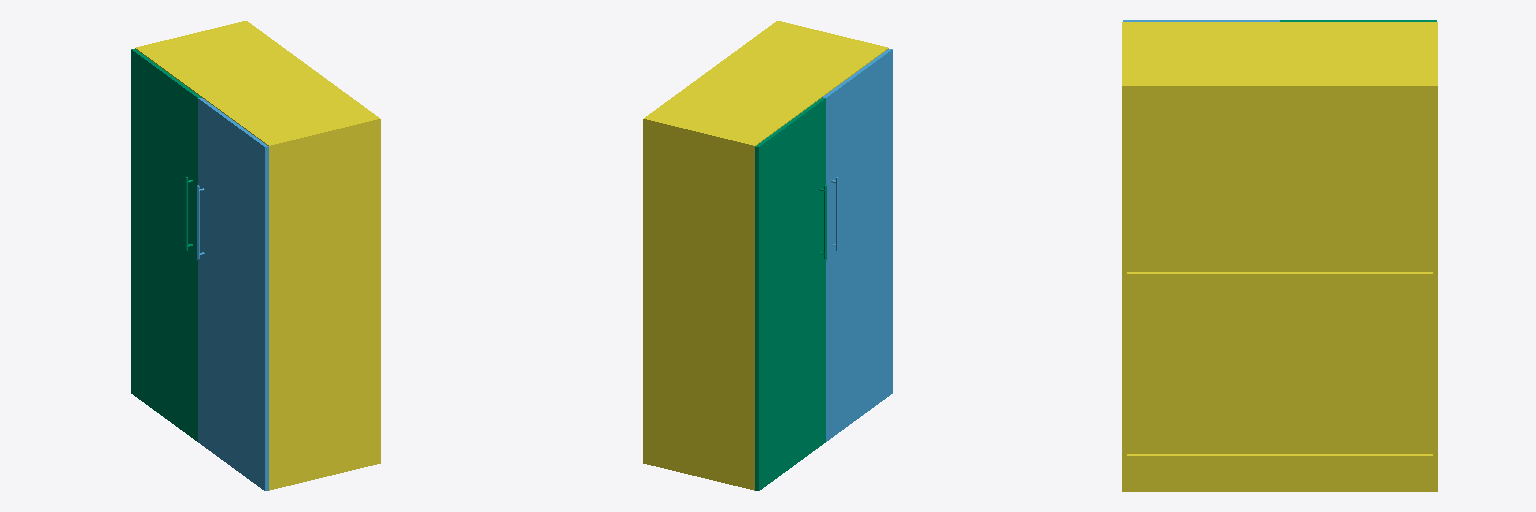
robot.urdf — partnet_5bf29b17ff338ef4c3aee8e9d3a6ffa:
<?xml version="1.0" ?>
<robot name="partnet_5bf29b17ff338ef4c3aee8e9d3a6ffa">
	<link name="base"/>
	<link name="link_0">
		<visual name="cabinet_door_surface-7">
			<origin xyz="-0.5568378988128383 0 -0.26716946744853437"/>
			<geometry>
				<mesh filename="textured_objs/original-29.obj"/>
			</geometry>
		</visual>
		<visual name="handle-8">
			<origin xyz="-0.5568378988128383 0 -0.26716946744853437"/>
			<geometry>
				<mesh filename="textured_objs/original-31.obj"/>
			</geometry>
		</visual>
		<visual name="handle-8">
			<origin xyz="-0.5568378988128383 0 -0.26716946744853437"/>
			<geometry>
				<mesh filename="textured_objs/original-32.obj"/>
			</geometry>
		</visual>
		<visual name="handle-8">
			<origin xyz="-0.5568378988128383 0 -0.26716946744853437"/>
			<geometry>
				<mesh filename="textured_objs/original-33.obj"/>
			</geometry>
		</visual>
		<collision>
			<origin xyz="-0.5568378988128383 0 -0.26716946744853437"/>
			<geometry>
				<mesh filename="textured_objs/original-29.obj"/>
			</geometry>
		</collision>
		<collision>
			<origin xyz="-0.5568378988128383 0 -0.26716946744853437"/>
			<geometry>
				<mesh filename="textured_objs/original-31.obj"/>
			</geometry>
		</collision>
		<collision>
			<origin xyz="-0.5568378988128383 0 -0.26716946744853437"/>
			<geometry>
				<mesh filename="textured_objs/original-32.obj"/>
			</geometry>
		</collision>
		<collision>
			<origin xyz="-0.5568378988128383 0 -0.26716946744853437"/>
			<geometry>
				<mesh filename="textured_objs/original-33.obj"/>
			</geometry>
		</collision>
	</link>
	<joint name="joint_0" type="revolute">
		<origin xyz="0.5568378988128383 0 0.26716946744853437"/>
		<axis xyz="0 1 0"/>
		<child link="link_0"/>
		<parent link="link_2"/>
		<limit lower="0.0" upper="1.5707963267948966"/>
	</joint>
	<link name="link_1">
		<visual name="cabinet_door_surface-5">
			<origin xyz="0.5505441576616547 0 -0.2585040087401204"/>
			<geometry>
				<mesh filename="textured_objs/original-21.obj"/>
			</geometry>
		</visual>
		<visual name="handle-6">
			<origin xyz="0.5505441576616547 0 -0.2585040087401204"/>
			<geometry>
				<mesh filename="textured_objs/original-23.obj"/>
			</geometry>
		</visual>
		<visual name="handle-6">
			<origin xyz="0.5505441576616547 0 -0.2585040087401204"/>
			<geometry>
				<mesh filename="textured_objs/original-24.obj"/>
			</geometry>
		</visual>
		<visual name="handle-6">
			<origin xyz="0.5505441576616547 0 -0.2585040087401204"/>
			<geometry>
				<mesh filename="textured_objs/original-25.obj"/>
			</geometry>
		</visual>
		<collision>
			<origin xyz="0.5505441576616547 0 -0.2585040087401204"/>
			<geometry>
				<mesh filename="textured_objs/original-21.obj"/>
			</geometry>
		</collision>
		<collision>
			<origin xyz="0.5505441576616547 0 -0.2585040087401204"/>
			<geometry>
				<mesh filename="textured_objs/original-23.obj"/>
			</geometry>
		</collision>
		<collision>
			<origin xyz="0.5505441576616547 0 -0.2585040087401204"/>
			<geometry>
				<mesh filename="textured_objs/original-24.obj"/>
			</geometry>
		</collision>
		<collision>
			<origin xyz="0.5505441576616547 0 -0.2585040087401204"/>
			<geometry>
				<mesh filename="textured_objs/original-25.obj"/>
			</geometry>
		</collision>
	</link>
	<joint name="joint_1" type="revolute">
		<origin xyz="-0.5505441576616547 0 0.2585040087401204"/>
		<axis xyz="0 -1 0"/>
		<child link="link_1"/>
		<parent link="link_2"/>
		<limit lower="-0.0" upper="1.5707963267948966"/>
	</joint>
	<link name="link_2">
		<visual name="shelf-10">
			<origin xyz="0 0 0"/>
			<geometry>
				<mesh filename="textured_objs/original-19.obj"/>
			</geometry>
		</visual>
		<visual name="shelf-11">
			<origin xyz="0 0 0"/>
			<geometry>
				<mesh filename="textured_objs/original-26.obj"/>
			</geometry>
		</visual>
		<visual name="shelf-12">
			<origin xyz="0 0 0"/>
			<geometry>
				<mesh filename="textured_objs/original-27.obj"/>
			</geometry>
		</visual>
		<visual name="vertical_side_panel-13">
			<origin xyz="0 0 0"/>
			<geometry>
				<mesh filename="textured_objs/original-7.obj"/>
			</geometry>
		</visual>
		<visual name="vertical_side_panel-13">
			<origin xyz="0 0 0"/>
			<geometry>
				<mesh filename="textured_objs/original-6.obj"/>
			</geometry>
		</visual>
		<visual name="vertical_side_panel-14">
			<origin xyz="0 0 0"/>
			<geometry>
				<mesh filename="textured_objs/original-4.obj"/>
			</geometry>
		</visual>
		<visual name="vertical_side_panel-14">
			<origin xyz="0 0 0"/>
			<geometry>
				<mesh filename="textured_objs/original-3.obj"/>
			</geometry>
		</visual>
		<visual name="back_panel-15">
			<origin xyz="0 0 0"/>
			<geometry>
				<mesh filename="textured_objs/original-12.obj"/>
			</geometry>
		</visual>
		<visual name="bottom_panel-16">
			<origin xyz="0 0 0"/>
			<geometry>
				<mesh filename="textured_objs/original-10.obj"/>
			</geometry>
		</visual>
		<visual name="bottom_panel-16">
			<origin xyz="0 0 0"/>
			<geometry>
				<mesh filename="textured_objs/original-9.obj"/>
			</geometry>
		</visual>
		<visual name="top_panel-17">
			<origin xyz="0 0 0"/>
			<geometry>
				<mesh filename="textured_objs/original-16.obj"/>
			</geometry>
		</visual>
		<visual name="top_panel-17">
			<origin xyz="0 0 0"/>
			<geometry>
				<mesh filename="textured_objs/original-17.obj"/>
			</geometry>
		</visual>
		<visual name="frame_horizontal_bar-20">
			<origin xyz="0 0 0"/>
			<geometry>
				<mesh filename="textured_objs/original-14.obj"/>
			</geometry>
		</visual>
		<visual name="frame_horizontal_bar-21">
			<origin xyz="0 0 0"/>
			<geometry>
				<mesh filename="textured_objs/original-11.obj"/>
			</geometry>
		</visual>
		<visual name="frame_horizontal_bar-22">
			<origin xyz="0 0 0"/>
			<geometry>
				<mesh filename="textured_objs/original-13.obj"/>
			</geometry>
		</visual>
		<collision>
			<origin xyz="0 0 0"/>
			<geometry>
				<mesh filename="textured_objs/original-19.obj"/>
			</geometry>
		</collision>
		<collision>
			<origin xyz="0 0 0"/>
			<geometry>
				<mesh filename="textured_objs/original-26.obj"/>
			</geometry>
		</collision>
		<collision>
			<origin xyz="0 0 0"/>
			<geometry>
				<mesh filename="textured_objs/original-27.obj"/>
			</geometry>
		</collision>
		<collision>
			<origin xyz="0 0 0"/>
			<geometry>
				<mesh filename="textured_objs/original-7.obj"/>
			</geometry>
		</collision>
		<collision>
			<origin xyz="0 0 0"/>
			<geometry>
				<mesh filename="textured_objs/original-6.obj"/>
			</geometry>
		</collision>
		<collision>
			<origin xyz="0 0 0"/>
			<geometry>
				<mesh filename="textured_objs/original-4.obj"/>
			</geometry>
		</collision>
		<collision>
			<origin xyz="0 0 0"/>
			<geometry>
				<mesh filename="textured_objs/original-3.obj"/>
			</geometry>
		</collision>
		<collision>
			<origin xyz="0 0 0"/>
			<geometry>
				<mesh filename="textured_objs/original-12.obj"/>
			</geometry>
		</collision>
		<collision>
			<origin xyz="0 0 0"/>
			<geometry>
				<mesh filename="textured_objs/original-10.obj"/>
			</geometry>
		</collision>
		<collision>
			<origin xyz="0 0 0"/>
			<geometry>
				<mesh filename="textured_objs/original-9.obj"/>
			</geometry>
		</collision>
		<collision>
			<origin xyz="0 0 0"/>
			<geometry>
				<mesh filename="textured_objs/original-16.obj"/>
			</geometry>
		</collision>
		<collision>
			<origin xyz="0 0 0"/>
			<geometry>
				<mesh filename="textured_objs/original-17.obj"/>
			</geometry>
		</collision>
		<collision>
			<origin xyz="0 0 0"/>
			<geometry>
				<mesh filename="textured_objs/original-14.obj"/>
			</geometry>
		</collision>
		<collision>
			<origin xyz="0 0 0"/>
			<geometry>
				<mesh filename="textured_objs/original-11.obj"/>
			</geometry>
		</collision>
		<collision>
			<origin xyz="0 0 0"/>
			<geometry>
				<mesh filename="textured_objs/original-13.obj"/>
			</geometry>
		</collision>
	</link>
	<joint name="joint_2" type="fixed">
		<origin rpy="1.570796326794897 0 -1.570796326794897" xyz="0 0 0"/>
		<child link="link_2"/>
		<parent link="base"/>
	</joint>
</robot>

--- What the picture shows (computed from the rendered views, not written in the file) ---
Views: 3 orthographic renders of the robot side by side, from view 1: azimuth 30°, elevation 25°; view 2: azimuth 150°, elevation 25°; view 3: azimuth 270°, elevation 25°.
Model partnet_5bf29b17ff338ef4c3aee8e9d3a6ffa with 4 links and 3 joints (2 revolute, 1 fixed), rooted at base, posed all joints at 0.
Links seen in each view (by area): view 1: link_2, link_0, link_1; view 2: link_2, link_1, link_0; view 3: link_2.
Link boxes in pixels (bbox=[...]): link_2: bbox=[135, 21, 380, 490]; link_0: bbox=[197, 98, 268, 490]; link_1: bbox=[131, 49, 201, 441]; link_2: bbox=[643, 21, 888, 490]; link_1: bbox=[755, 98, 826, 490]; link_0: bbox=[822, 49, 892, 441]; link_2: bbox=[1122, 22, 1437, 491].
Bounding box of the posed robot: 0.5952 × 1.13 × 1.6 m (x, y, z).
23 mesh visuals loaded from 23 distinct referenced files (23 OBJ).
